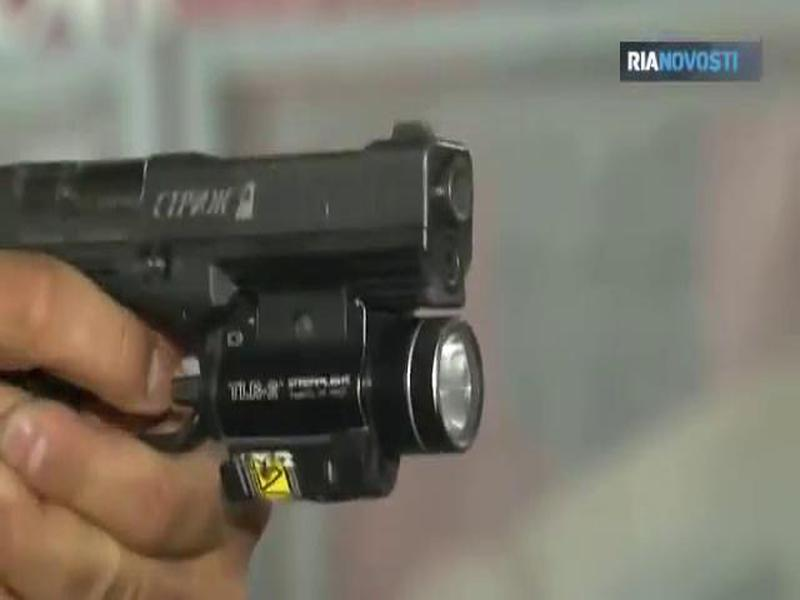Pistola: (1, 116, 481, 527)
